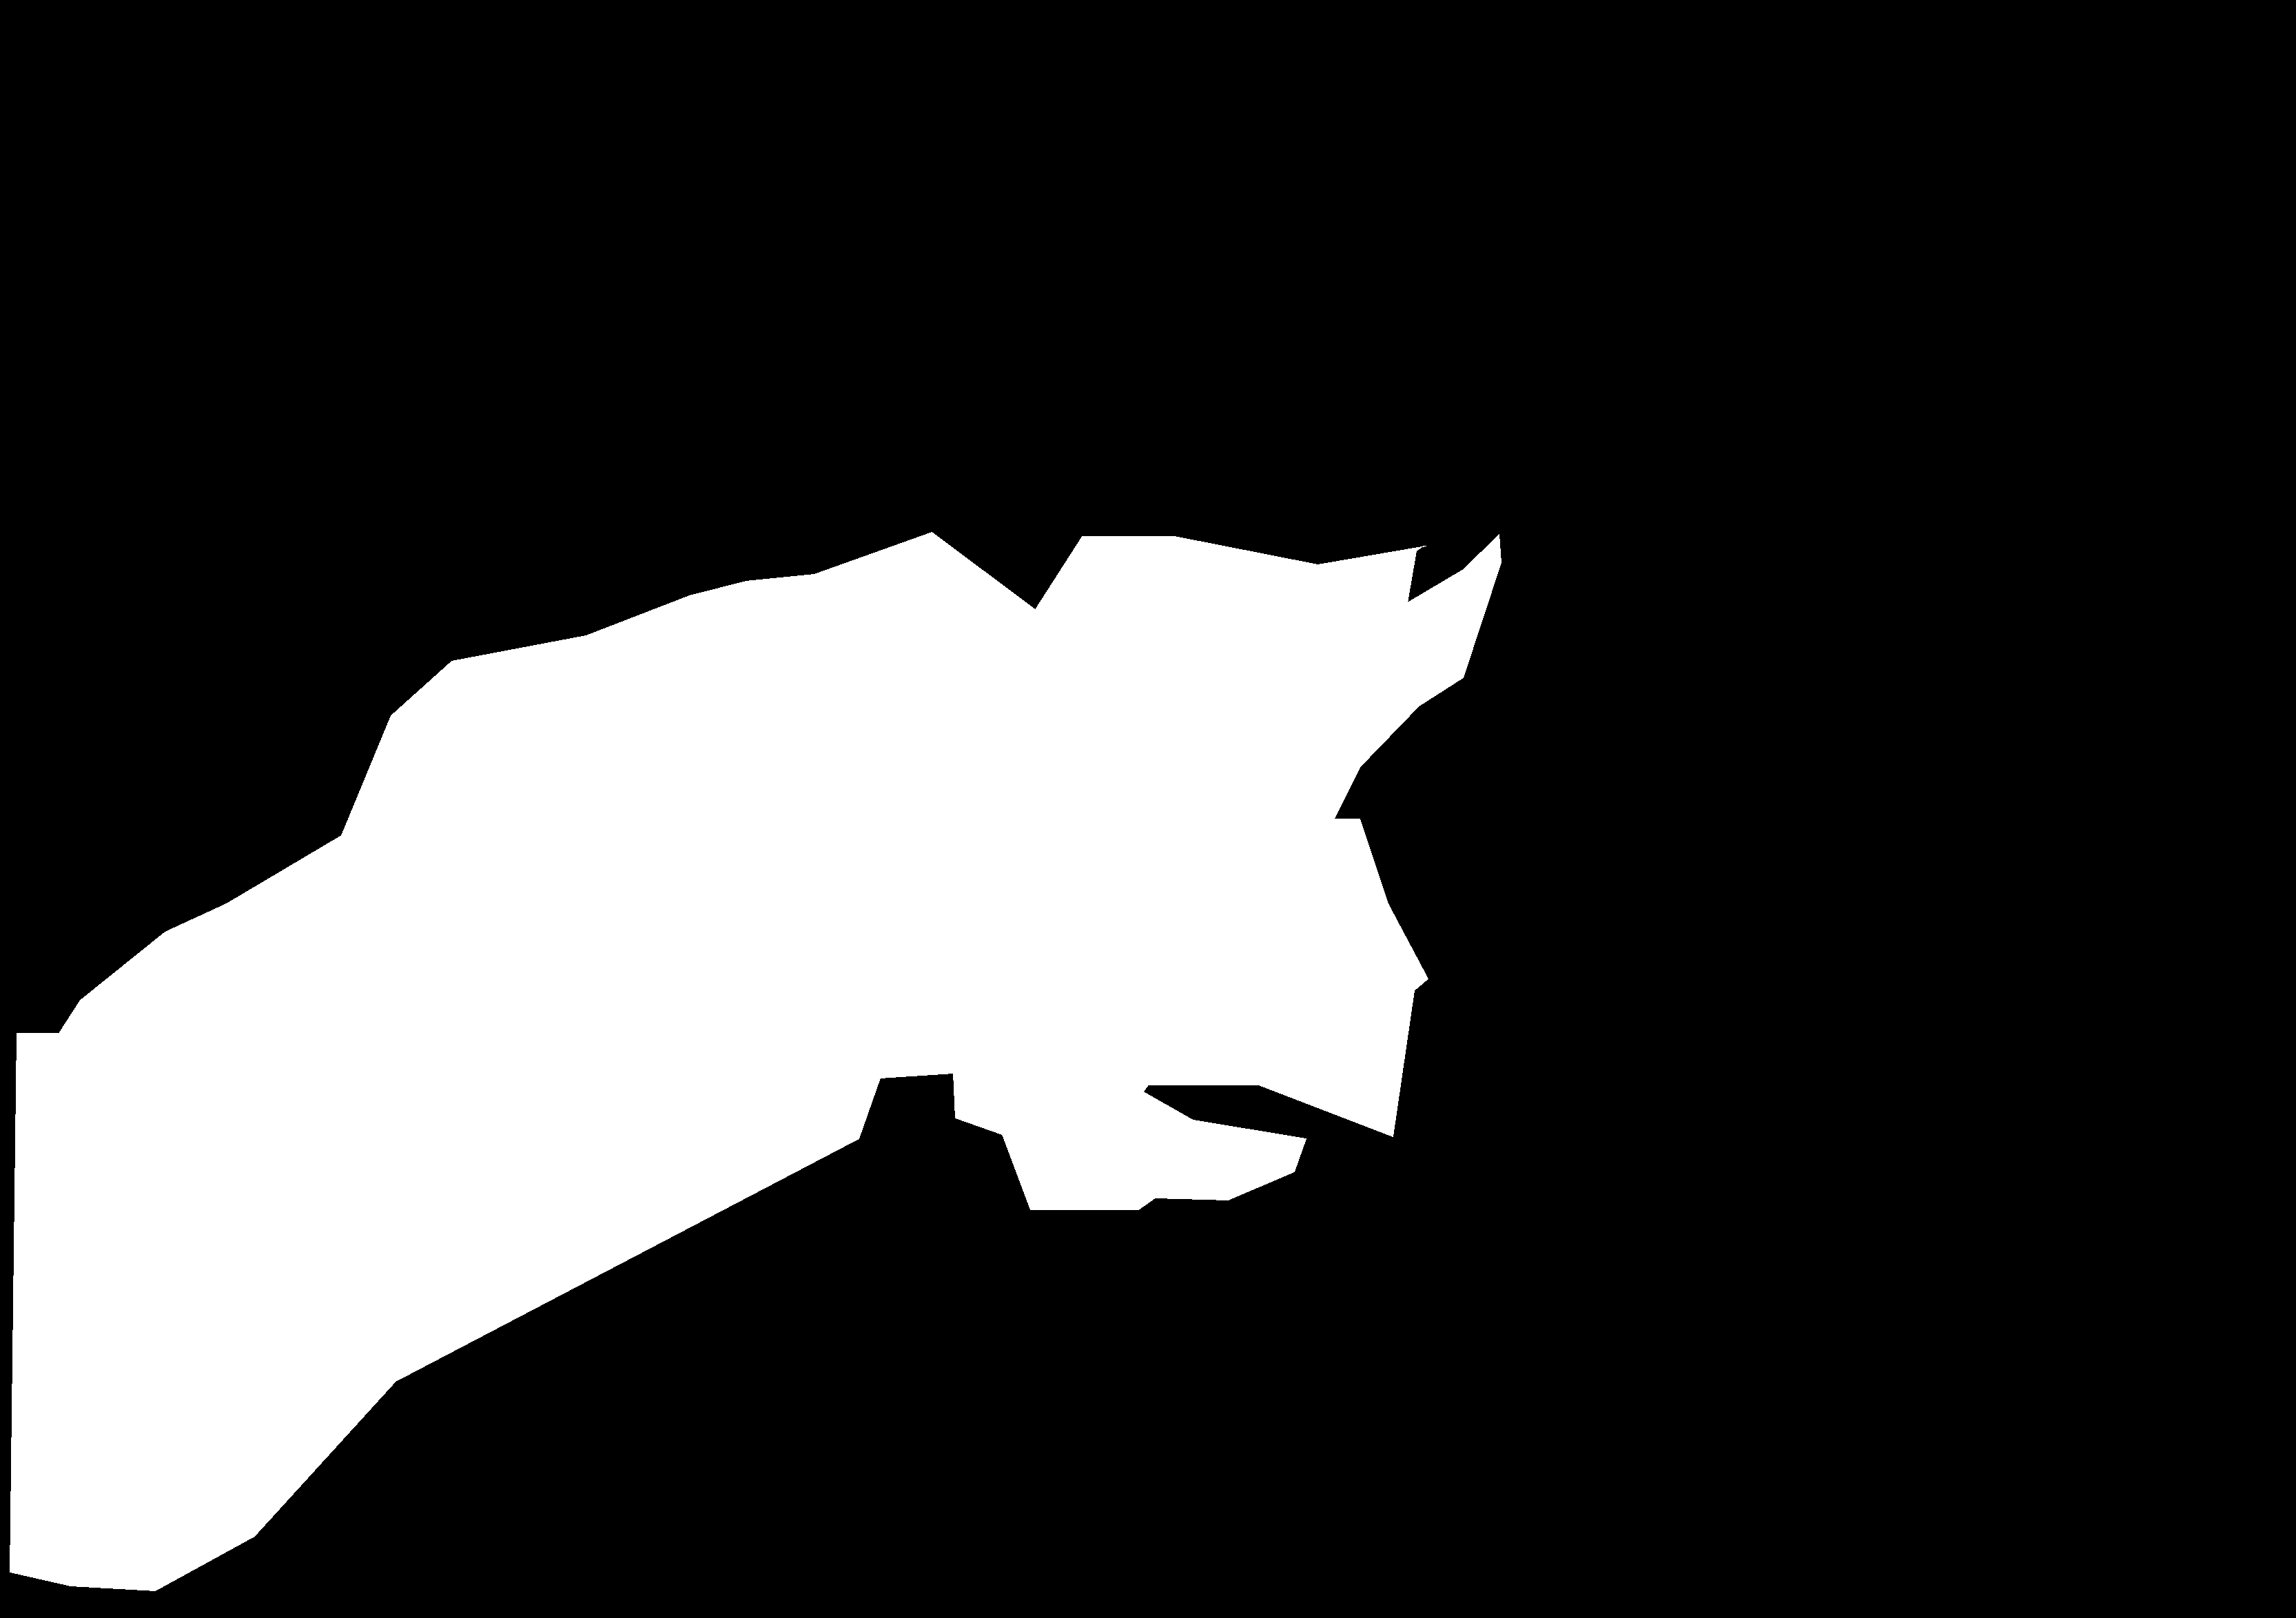fire: (525, 536, 1543, 1245)
